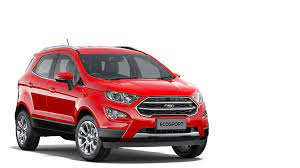Ford: (14, 43, 209, 160)
